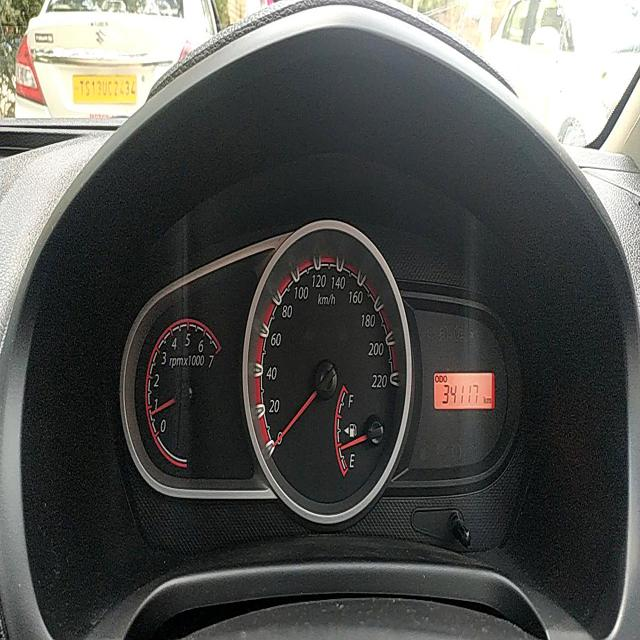odometer: (439, 383, 481, 408)
